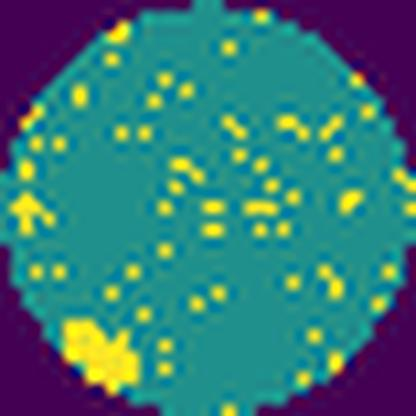Edge-Loc: (60, 309, 148, 399)
